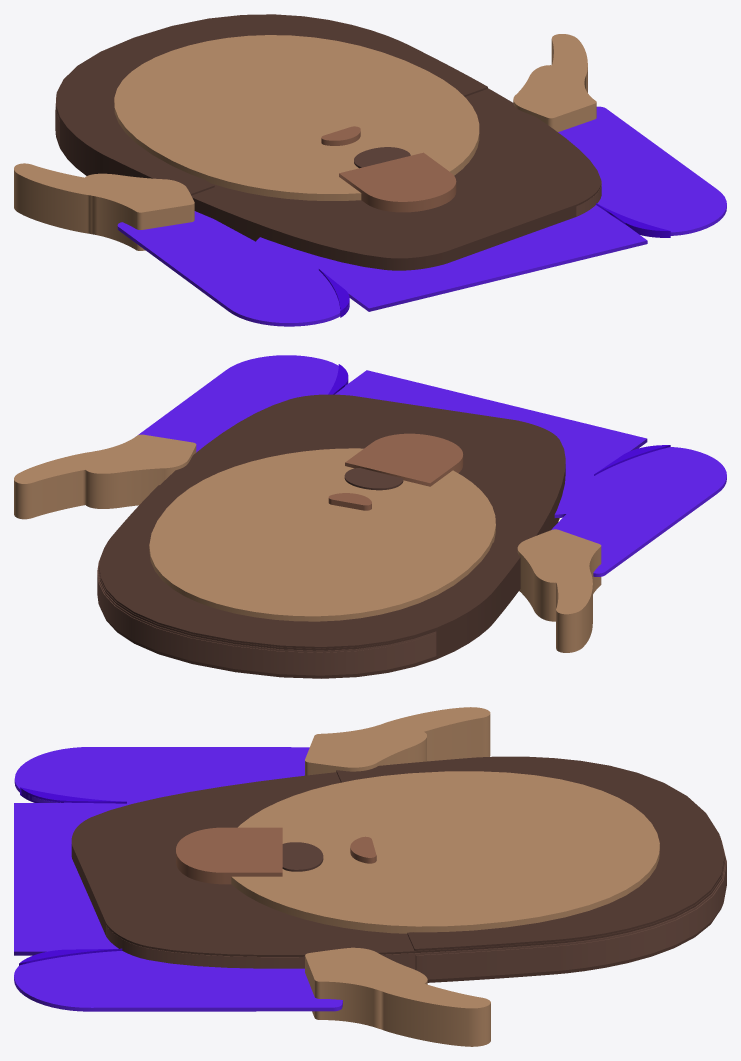
Rendered from emoji_u1f937_1f3fd_200d_2640.glb.
3 renders of one model, top to bottom at view 1: azimuth 30°, elevation 25°; view 2: azimuth 150°, elevation 25°; view 3: azimuth 270°, elevation 25°, orthographic. The views are drawn at different scales.
Visible parts, largest first — view 1: emoji_u1f937_1f3fd_200d_2640; view 2: emoji_u1f937_1f3fd_200d_2640; view 3: emoji_u1f937_1f3fd_200d_2640.
Boxes of the visible parts, box(x1,y1,x2,y2) form: emoji_u1f937_1f3fd_200d_2640: box(14, 14, 726, 326); emoji_u1f937_1f3fd_200d_2640: box(14, 355, 726, 678); emoji_u1f937_1f3fd_200d_2640: box(14, 707, 726, 1046).
Bounding box in the file's own units: 0.0335 × 0.003 × 0.0337.
